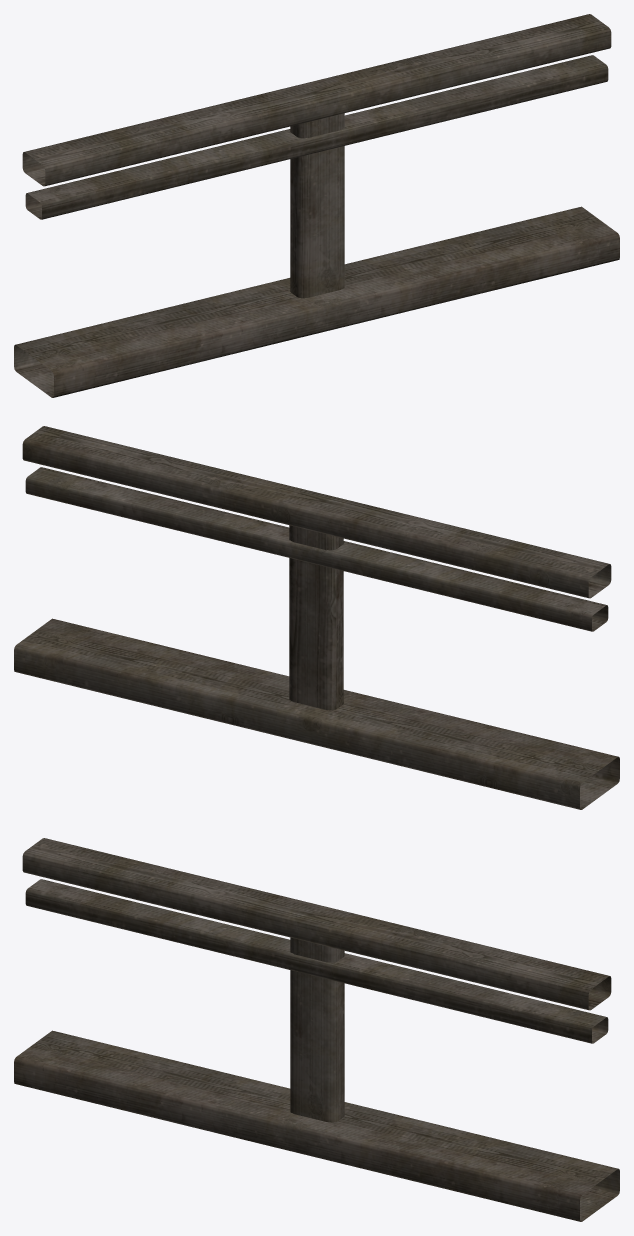
File: ShrineModule_Handrail-02.fbx
3 views of the same model, one above another, from view 1: azimuth 30°, elevation 25°; view 2: azimuth 150°, elevation 25°; view 3: azimuth 330°, elevation 25° (orthographic).
Parts seen in each view (by area): view 1: ShrineModule_Handrail-02; view 2: ShrineModule_Handrail-02; view 3: ShrineModule_Handrail-02.
Boxes of the visible parts, box(x1,y1,x2,y2) form: ShrineModule_Handrail-02: box(14, 14, 619, 397); ShrineModule_Handrail-02: box(14, 426, 619, 809); ShrineModule_Handrail-02: box(14, 838, 619, 1221).
Size of the model in its own units: 2.1 by 0.8042 by 0.257.
